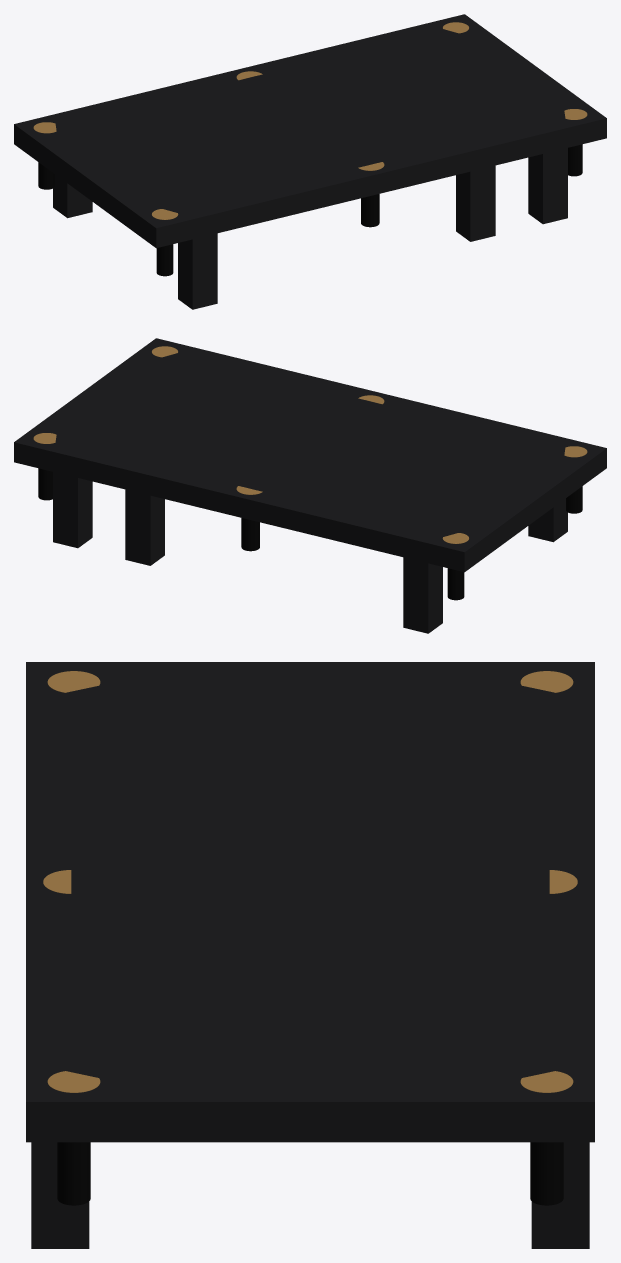
File: table.obj
3 views of the same model, one above another, from view 1: azimuth 30°, elevation 25°; view 2: azimuth 150°, elevation 25°; view 3: azimuth 270°, elevation 25° (orthographic). The views are drawn at different scales.
Visible parts, largest first — view 1: Frame, Leg_0, Leg_2, Leg_4, Leg_1, Pocket_5, Pocket_3, Pocket_1; view 2: Frame, Leg_1, Leg_3, Leg_5, Leg_0, Pocket_4, Pocket_2, Pocket_0; view 3: Frame, Leg_4, Leg_5, Pocket_0, Pocket_1, JawPlate_Corner_0, JawPlate_Corner_1, JawPlate_Corner_2, JawPlate_Corner_3.
Boxes of the visible parts, x1,y1,x2,y2 form: Frame: (14,14,606,248); Leg_0: (178,233,217,309); Leg_2: (456,165,495,241); Leg_4: (528,148,567,224); Leg_1: (53,174,92,218); Pocket_5: (361,194,379,227); Pocket_3: (156,244,173,276); Pocket_1: (568,144,582,176); Frame: (14,338,606,572); Leg_1: (403,557,442,633); Leg_3: (125,489,164,565); Leg_5: (53,472,92,548); Leg_0: (528,498,567,542); Pocket_4: (241,518,259,551); Pocket_2: (447,568,464,600); Pocket_0: (38,468,52,500); Frame: (26,662,594,1142); Leg_4: (31,1142,89,1248); Leg_5: (531,1142,589,1248); Pocket_0: (530,1142,563,1205); Pocket_1: (57,1142,90,1205); JawPlate_Corner_0: (520,1071,573,1092); JawPlate_Corner_1: (47,1071,100,1092); JawPlate_Corner_2: (520,671,573,692); JawPlate_Corner_3: (47,671,100,692).
Bounding box in the file's own units: 3.95 × 0.769 × 2.16.
